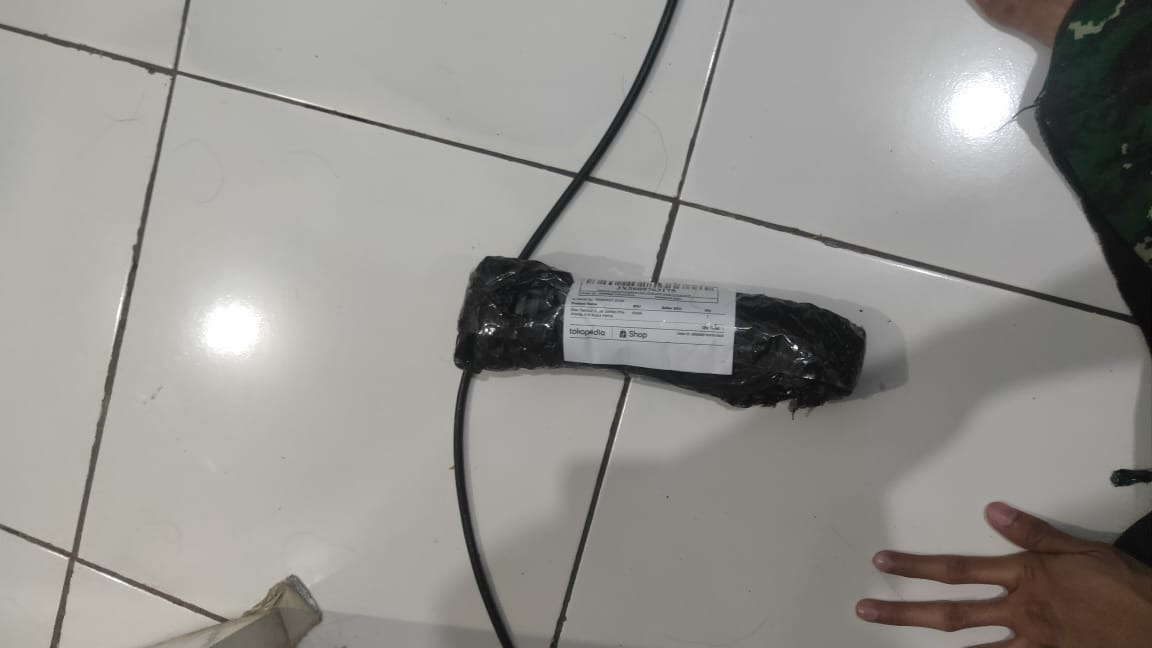damaged package: (471, 278, 574, 327), (738, 386, 828, 409)
undamaged: (440, 256, 877, 420)
